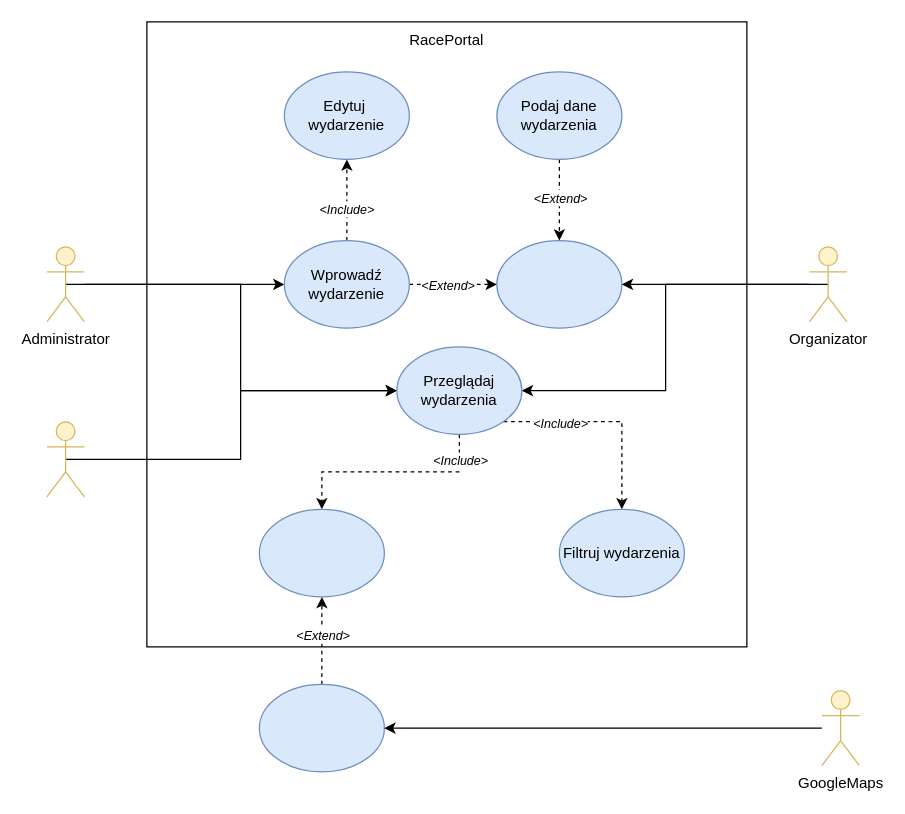
This 905x814 diagram has some shape labels left out. Here are the shapes that lost their labels. From the top down, the centre of each, then its label:
[559,283]: Zgłoś wydarzenie
[65,459]: Użytkownik
[321,552]: Wyświetl szczegóły
[321,727]: Wyświetl lokalizacje
